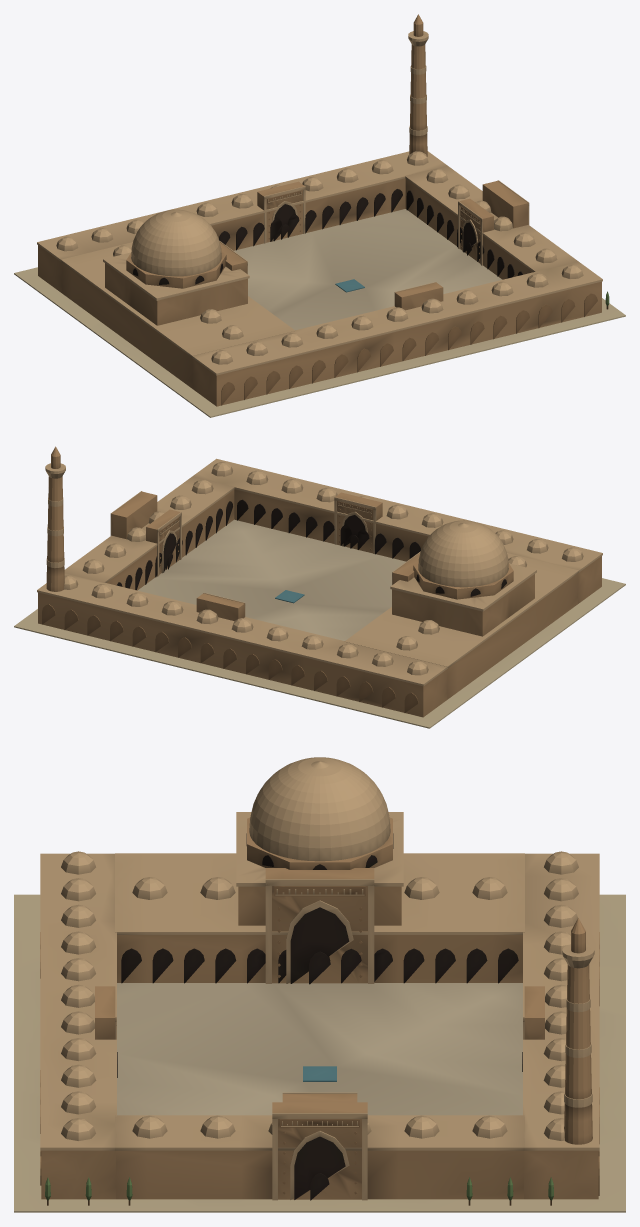
The model's file is friday-mosque.glb.
3 renders of one model, top to bottom at view 1: azimuth 30°, elevation 25°; view 2: azimuth 150°, elevation 25°; view 3: azimuth 270°, elevation 25°, orthographic. The views are drawn at different scales.
Parts seen in each view (by area): view 1: p1_halls, p2_portals and minaret, p0_ground; view 2: p1_halls, p2_portals and minaret, p0_ground; view 3: p1_halls, p2_portals and minaret, p0_ground.
Boxes of the visible parts, box(x1,y1,x2,y2) form: p1_halls: box(37, 151, 602, 406); p2_portals and minaret: box(219, 14, 609, 310); p0_ground: box(14, 267, 625, 417); p1_halls: box(37, 458, 602, 717); p2_portals and minaret: box(45, 446, 420, 620); p0_ground: box(14, 578, 625, 728); p1_halls: box(40, 757, 599, 1199); p2_portals and minaret: box(45, 868, 594, 1205); p0_ground: box(14, 894, 625, 1212).
Bounding box in the file's own units: 110 × 44.62 × 90.
